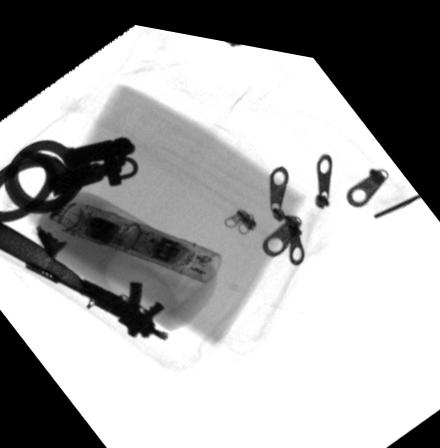Baton: (56, 200, 223, 276)
Bullet: (0, 222, 100, 299)
Gun: (26, 260, 169, 334)
HandCuffs: (0, 129, 139, 222)
